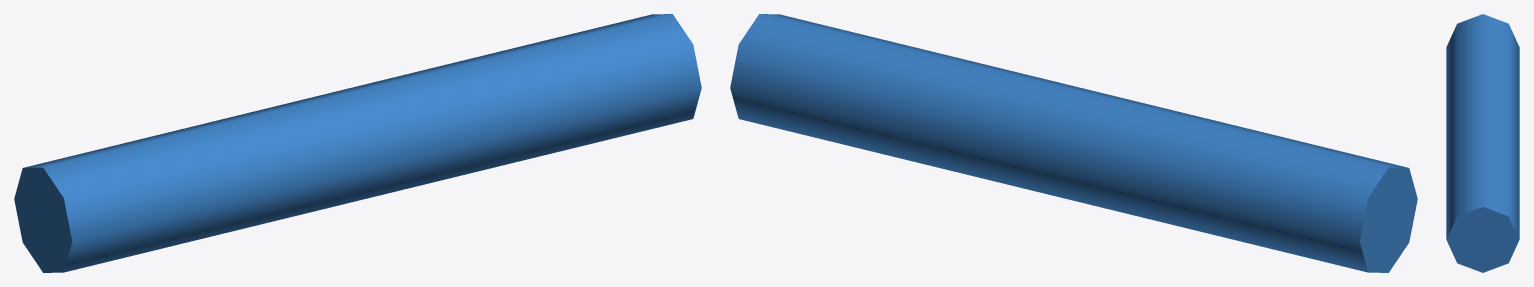
Rendered from Cable2.fbx.
3 renders of one model, left to right at view 1: azimuth 30°, elevation 25°; view 2: azimuth 150°, elevation 25°; view 3: azimuth 270°, elevation 25°, orthographic. The views are drawn at different scales.
Visible parts, largest first — view 1: Simple; view 2: Simple; view 3: Simple.
Part boxes in pixels (box(x1,y1,x2,y2)): Simple: box(14, 14, 701, 272); Simple: box(730, 14, 1417, 272); Simple: box(1446, 14, 1519, 272).
Size of the model in its own units: 100 by 16 by 16.
